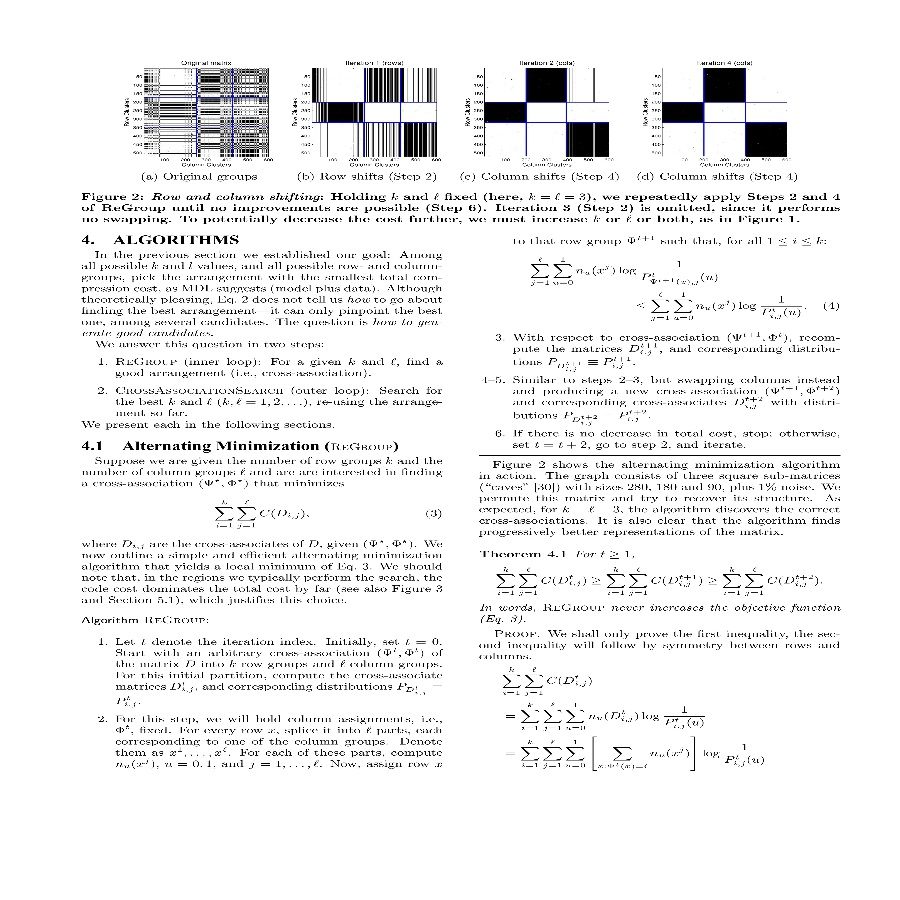eq: (500, 663, 776, 775), (521, 252, 805, 329), (492, 563, 819, 597), (204, 498, 309, 532)
